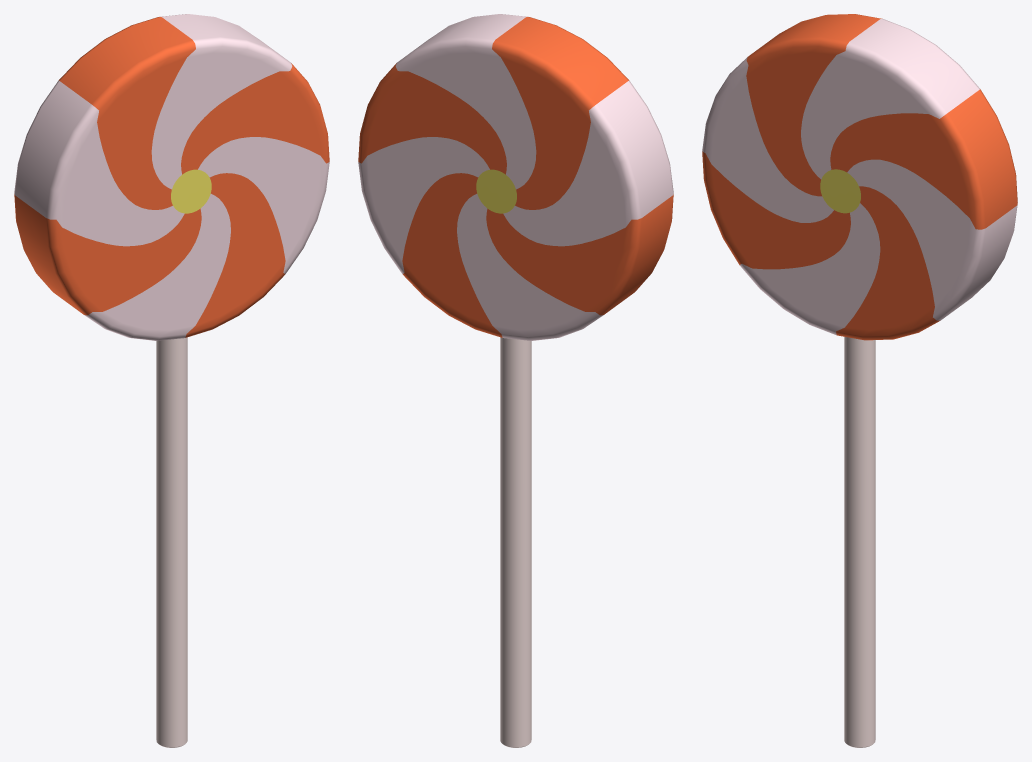
The model's file is Store_8_Candy_7.glb.
3 views of the same model, side by side, from view 1: azimuth 30°, elevation 25°; view 2: azimuth 150°, elevation 25°; view 3: azimuth 330°, elevation 25° (orthographic).
Parts seen in each view (by area): view 1: Store_8_Candy_7; view 2: Store_8_Candy_7; view 3: Store_8_Candy_7.
Part boxes in pixels (box(x1,y1,x2,y2)): Store_8_Candy_7: box(14, 14, 329, 747); Store_8_Candy_7: box(358, 14, 673, 747); Store_8_Candy_7: box(702, 14, 1017, 747).
Bounding box in the file's own units: 0.7176 × 1.73 × 0.17.
1 material, 1 textured.
